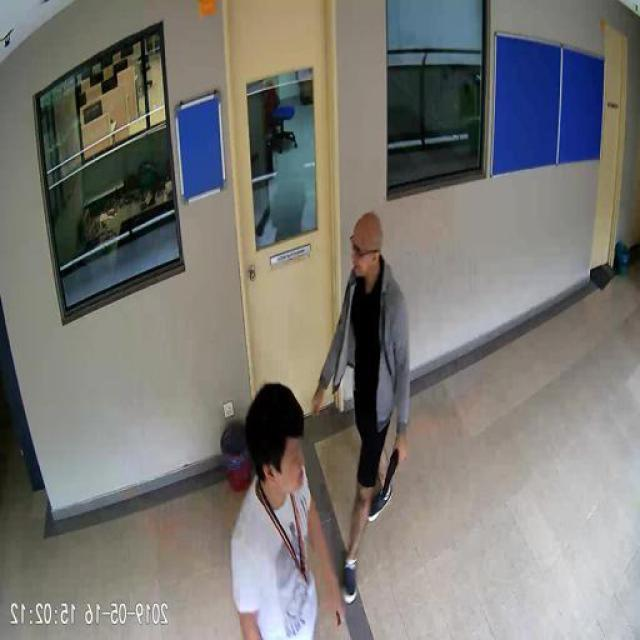weapon: (377, 438, 408, 504)
